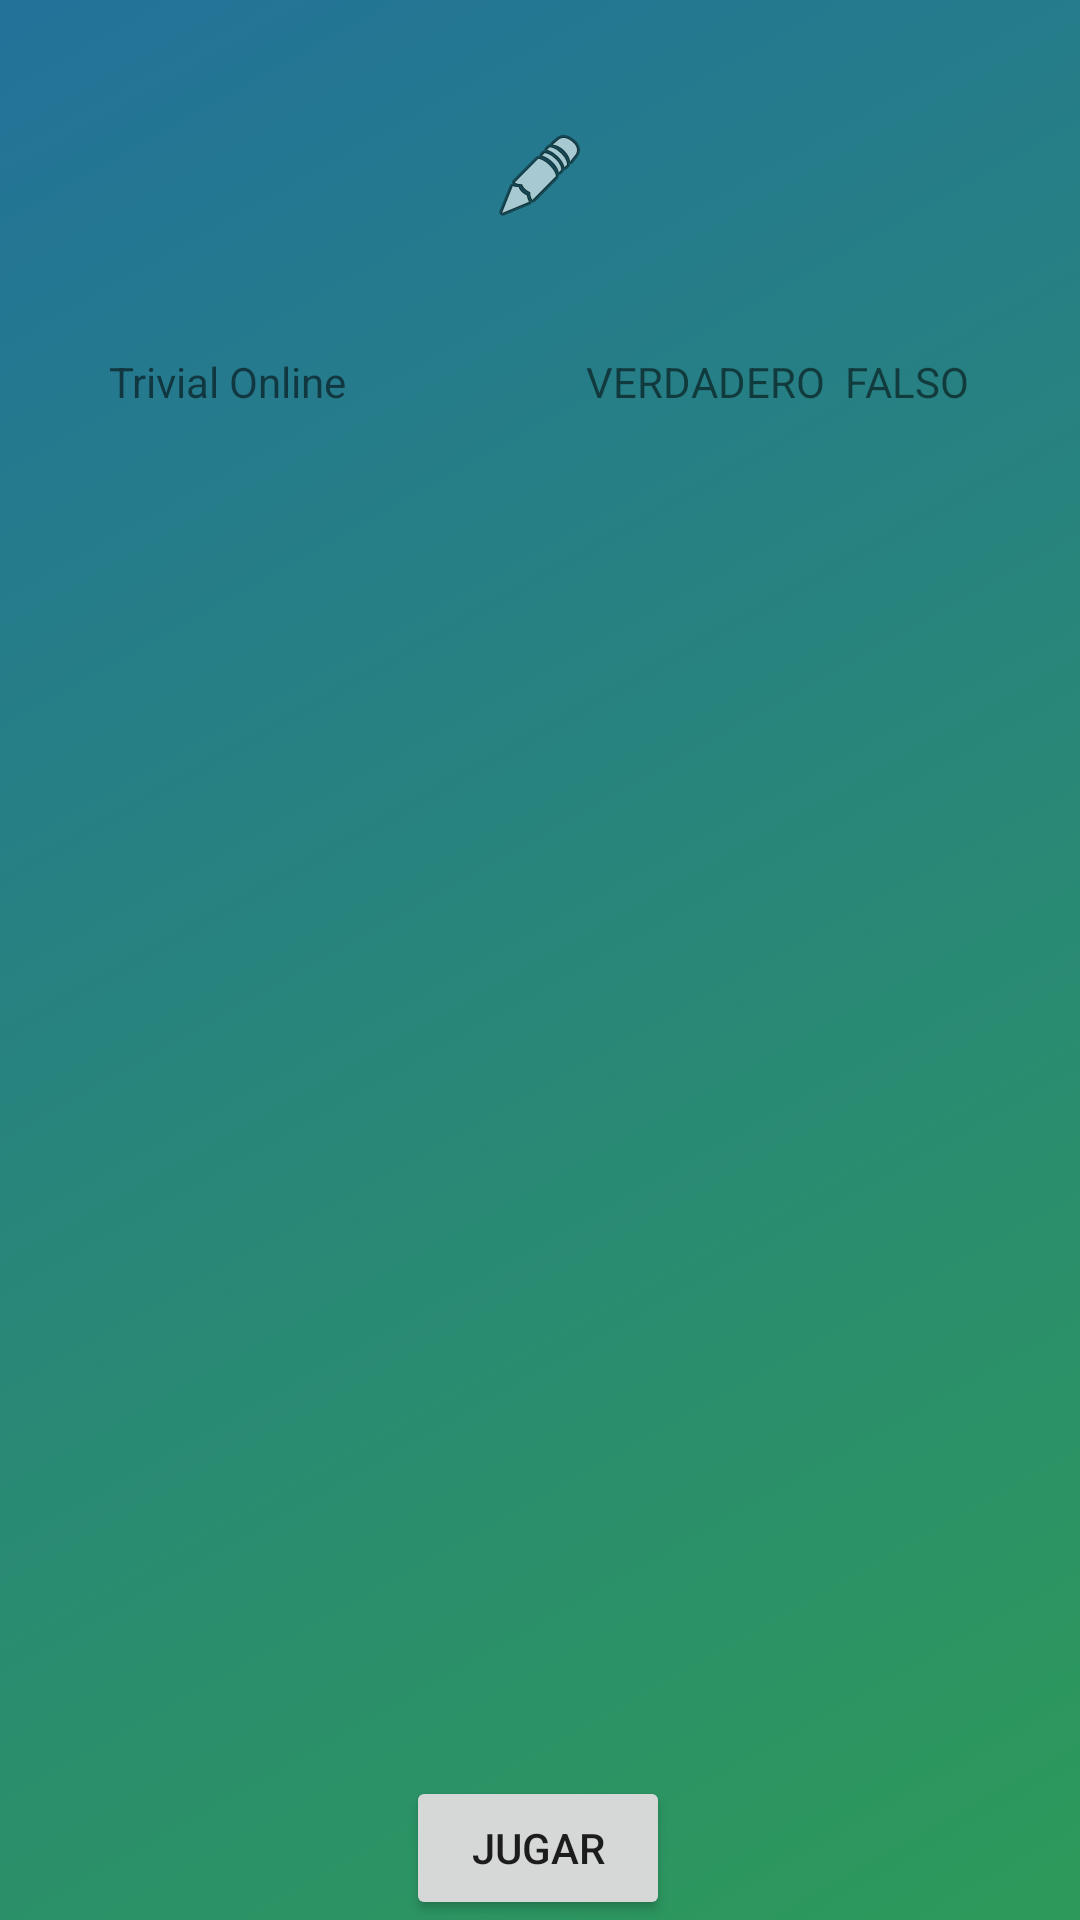

Where to tap for icons on this 1080px×1920px app screen, as (x=x, y=y):
edit: (x=539, y=175)
